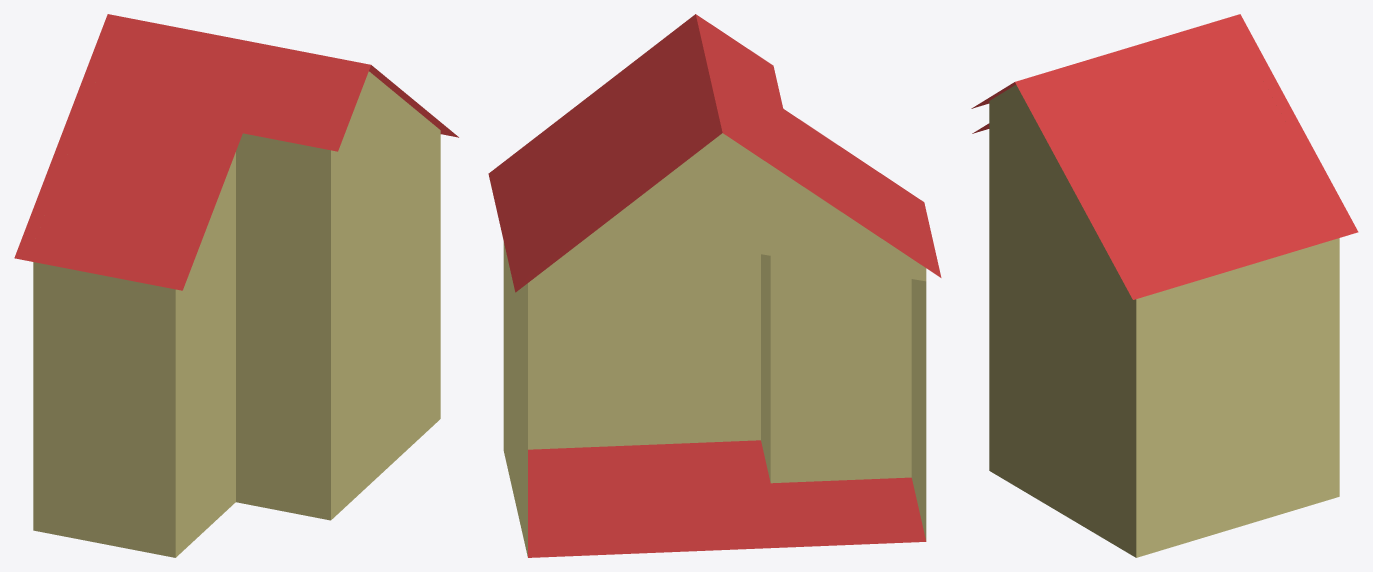
3 views of the same model, side by side, from view 1: azimuth 30°, elevation 25°; view 2: azimuth 150°, elevation 25°; view 3: azimuth 270°, elevation 25° (orthographic). The views are drawn at different scales.
Size of the model in its own units: 18.34 by 14.19 by 16.69.
